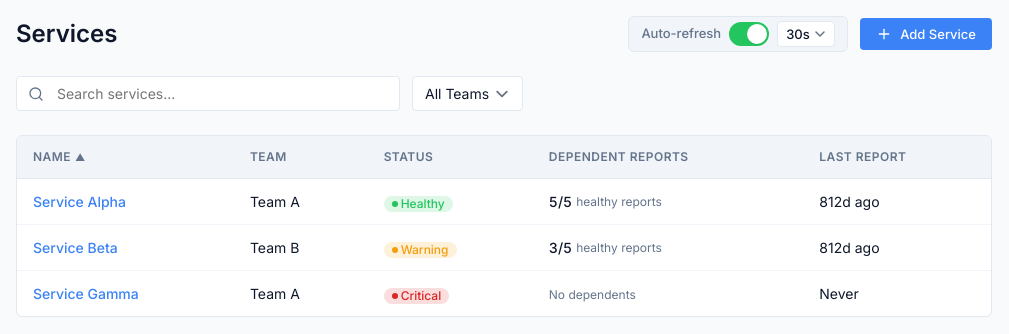
ServicesList › filters services by team for admin users
The image size is (1009, 334).
Expected: the link "Service Alpha" is shown, [33, 193, 126, 210]
Select "Team B" in the dropdown named "Filter by team" at coordinates (468, 94), box [412, 76, 523, 111]
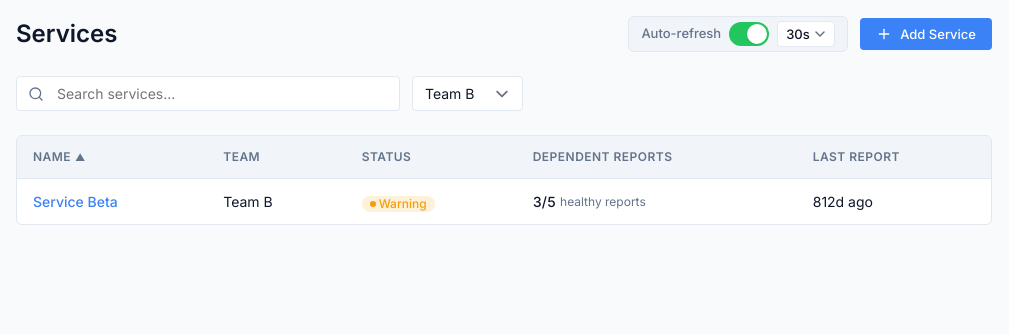
Expected: the link "Service Beta" is shown, [33, 193, 118, 210]
Expected: the link "Service Alpha" is gone
Expected: the link "Service Gamma" is gone
